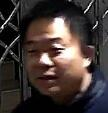caibo: (19, 19, 98, 101)
